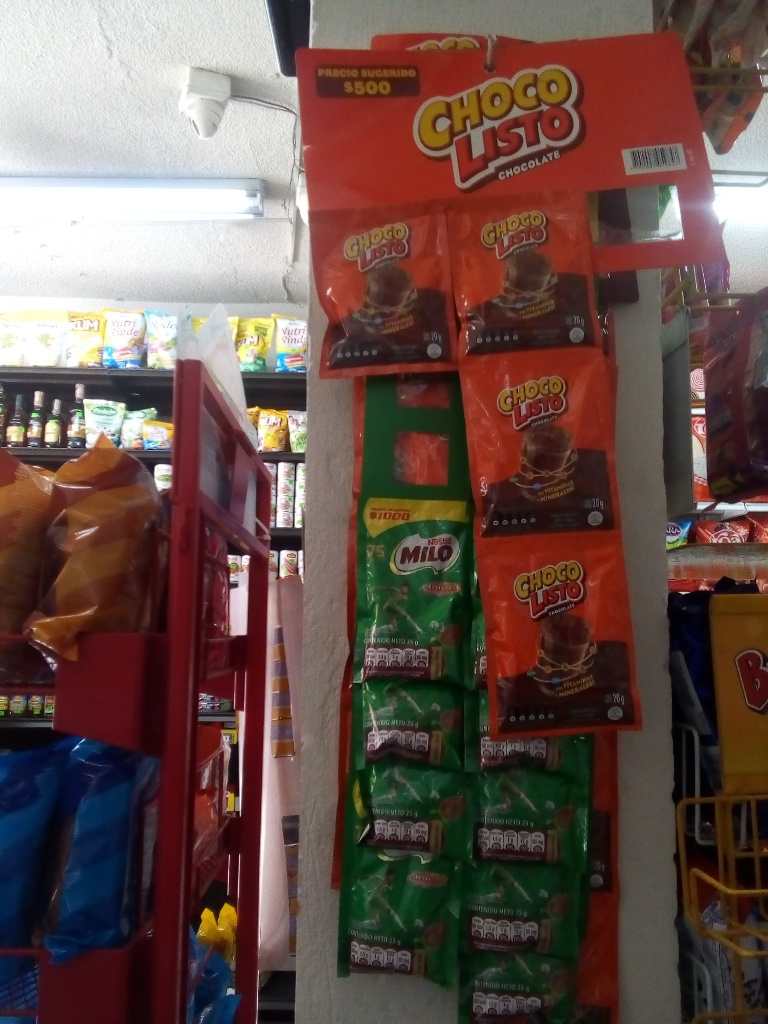COL0170103SOB02000: (320, 201, 463, 376)
